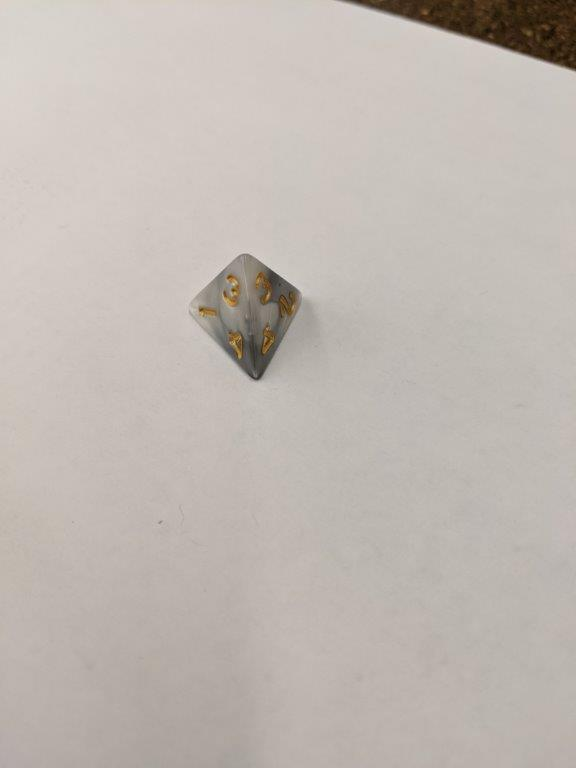d4-3: (184, 249, 305, 384)
